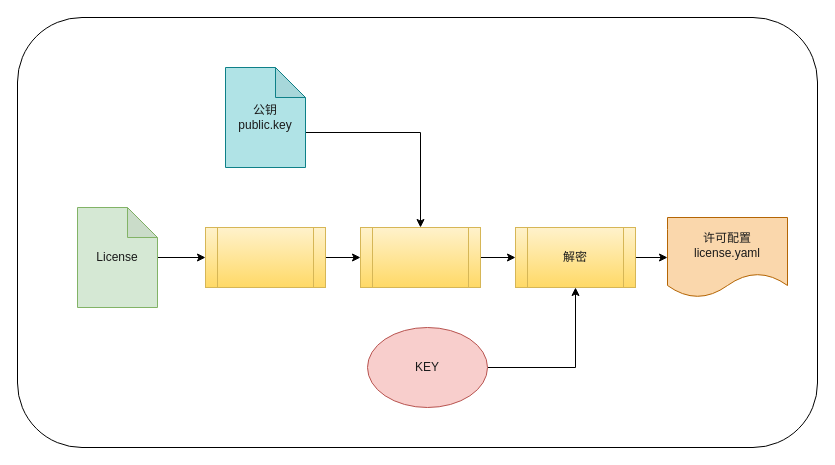
Some shapes in this 835 by 465 pixel diagram are drawn without their labels. Each missing label, with the centre of its shape:
"解包" goes at point 265,257.
"验签" goes at point 420,257.
